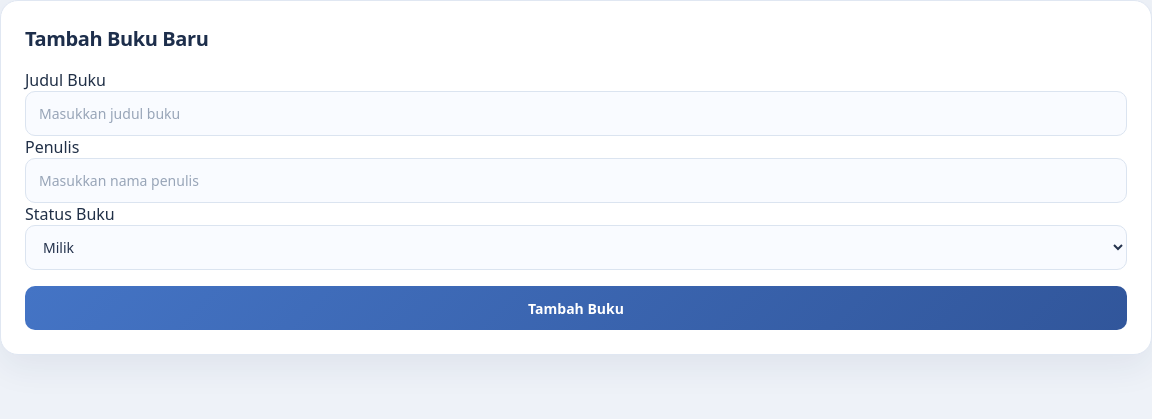
Test: BookForm › menampilkan error ketika judul dan penulis kosong
Click the button "Tambah Buku".
click(576, 308)  # box x1=25 y1=286 x2=1127 y2=330
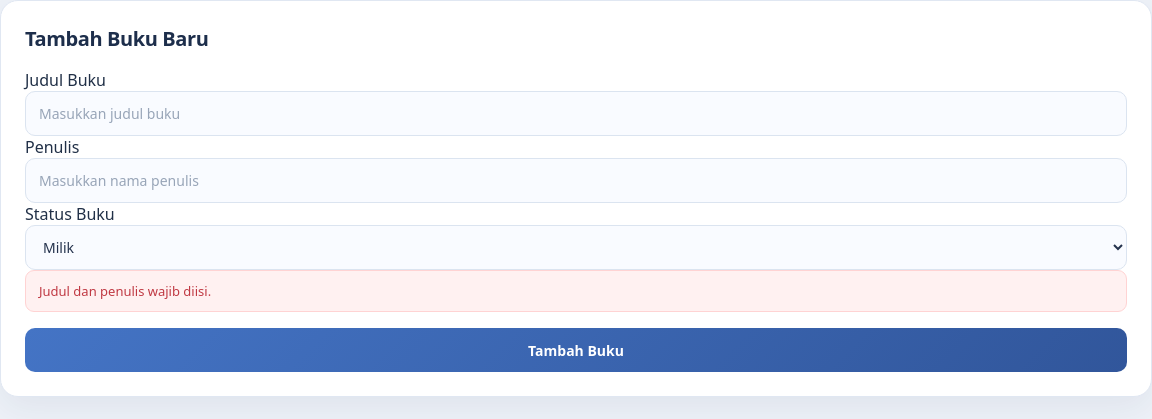
Result: the message reads "Judul dan penulis wajib diisi." at x1=39 y1=282 x2=211 y2=300
